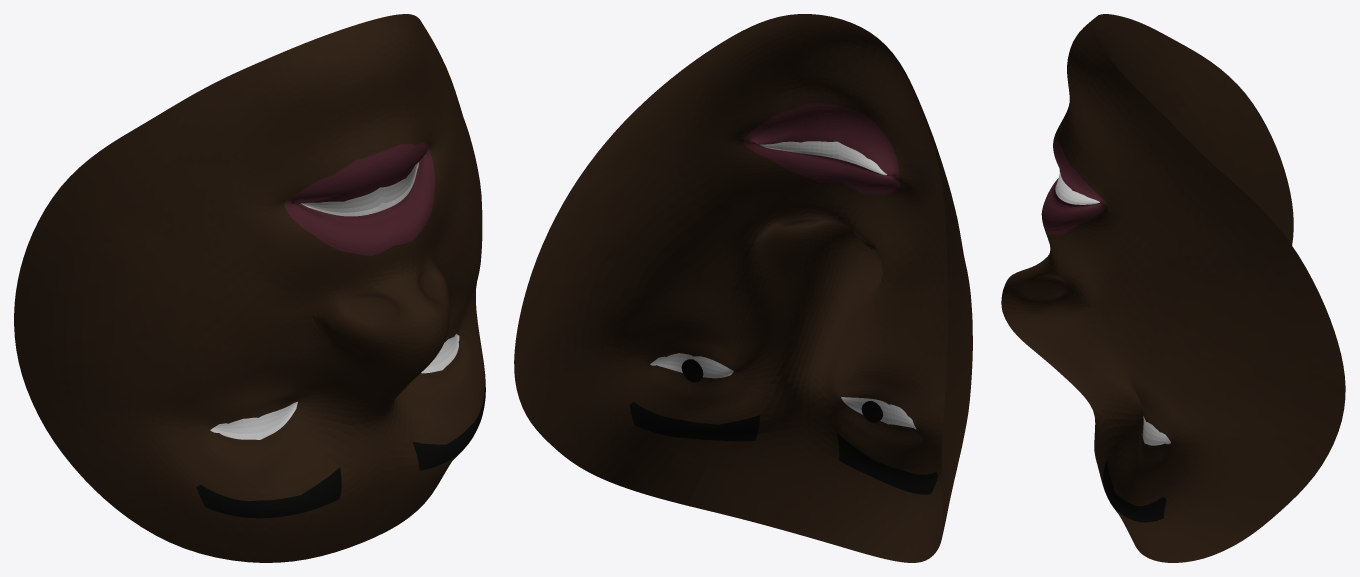
The model's file is IMG_7913.obj.
3 views of the same model, side by side, from view 1: azimuth 30°, elevation 25°; view 2: azimuth 150°, elevation 25°; view 3: azimuth 270°, elevation 25° (orthographic). The views are drawn at different scales.
Parts seen in each view (by area): view 1: face_mesh_subdivided; view 2: face_mesh_subdivided; view 3: face_mesh_subdivided.
Part boxes in pixels (x1=…): face_mesh_subdivided: x1=14, y1=14, x2=485, y2=562; face_mesh_subdivided: x1=514, y1=14, x2=972, y2=562; face_mesh_subdivided: x1=1001, y1=14, x2=1345, y2=562.
Size of the model in its own units: 0.6485 by 0.7769 by 0.4886.
